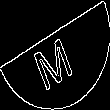M_NW: (31, 22, 79, 88)
